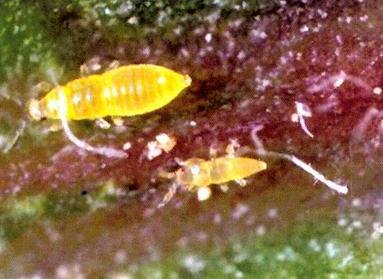tiny_pests: (4, 37, 202, 158), (152, 141, 288, 223)
